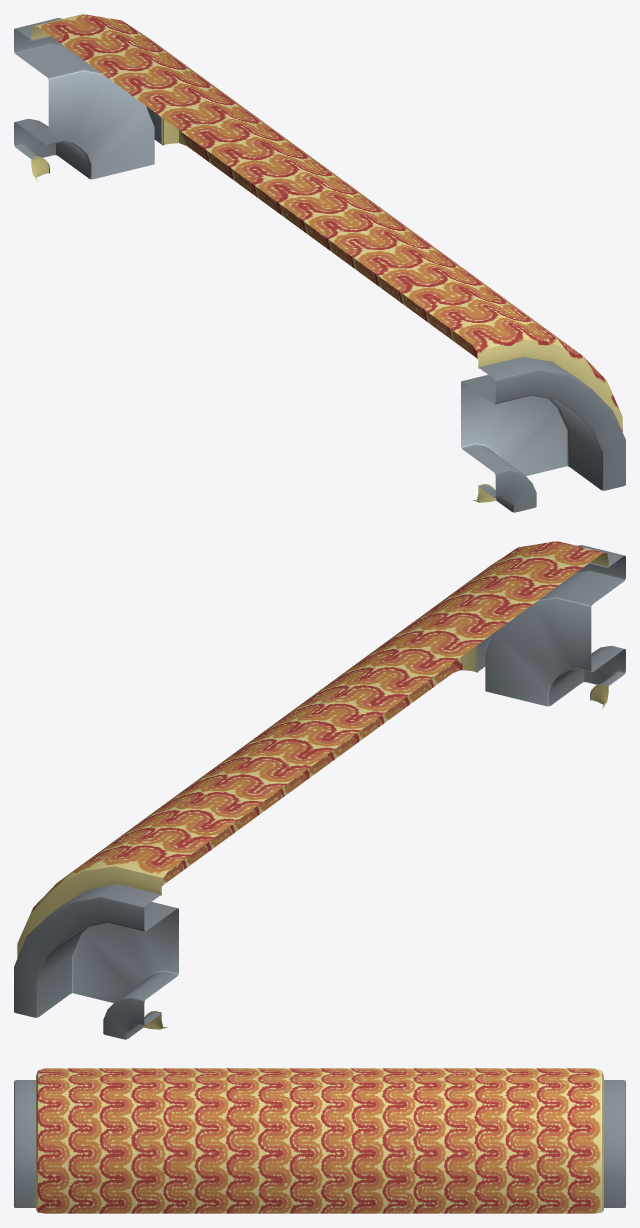
Rendered from SM_WallCorner_50x50.fbx.
3 renders of one model, top to bottom at view 1: azimuth 30°, elevation 25°; view 2: azimuth 150°, elevation 25°; view 3: azimuth 270°, elevation 25°, orthographic. The views are drawn at different scales.
Parts seen in each view (by area): view 1: SM_WallCorner_50x50; view 2: SM_WallCorner_50x50; view 3: SM_WallCorner_50x50.
Part boxes in pixels (box(x1,y1,x2,y2)): SM_WallCorner_50x50: box(14, 14, 625, 512); SM_WallCorner_50x50: box(14, 541, 625, 1039); SM_WallCorner_50x50: box(14, 1068, 625, 1213).
Size of the model in its own units: 50 by 280 by 49.9.
1 material, 1 textured.
